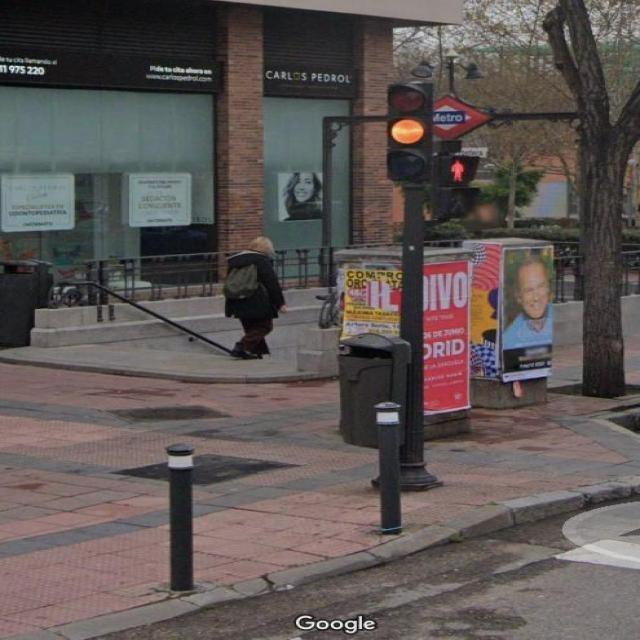Yellow: (384, 77, 430, 186)
